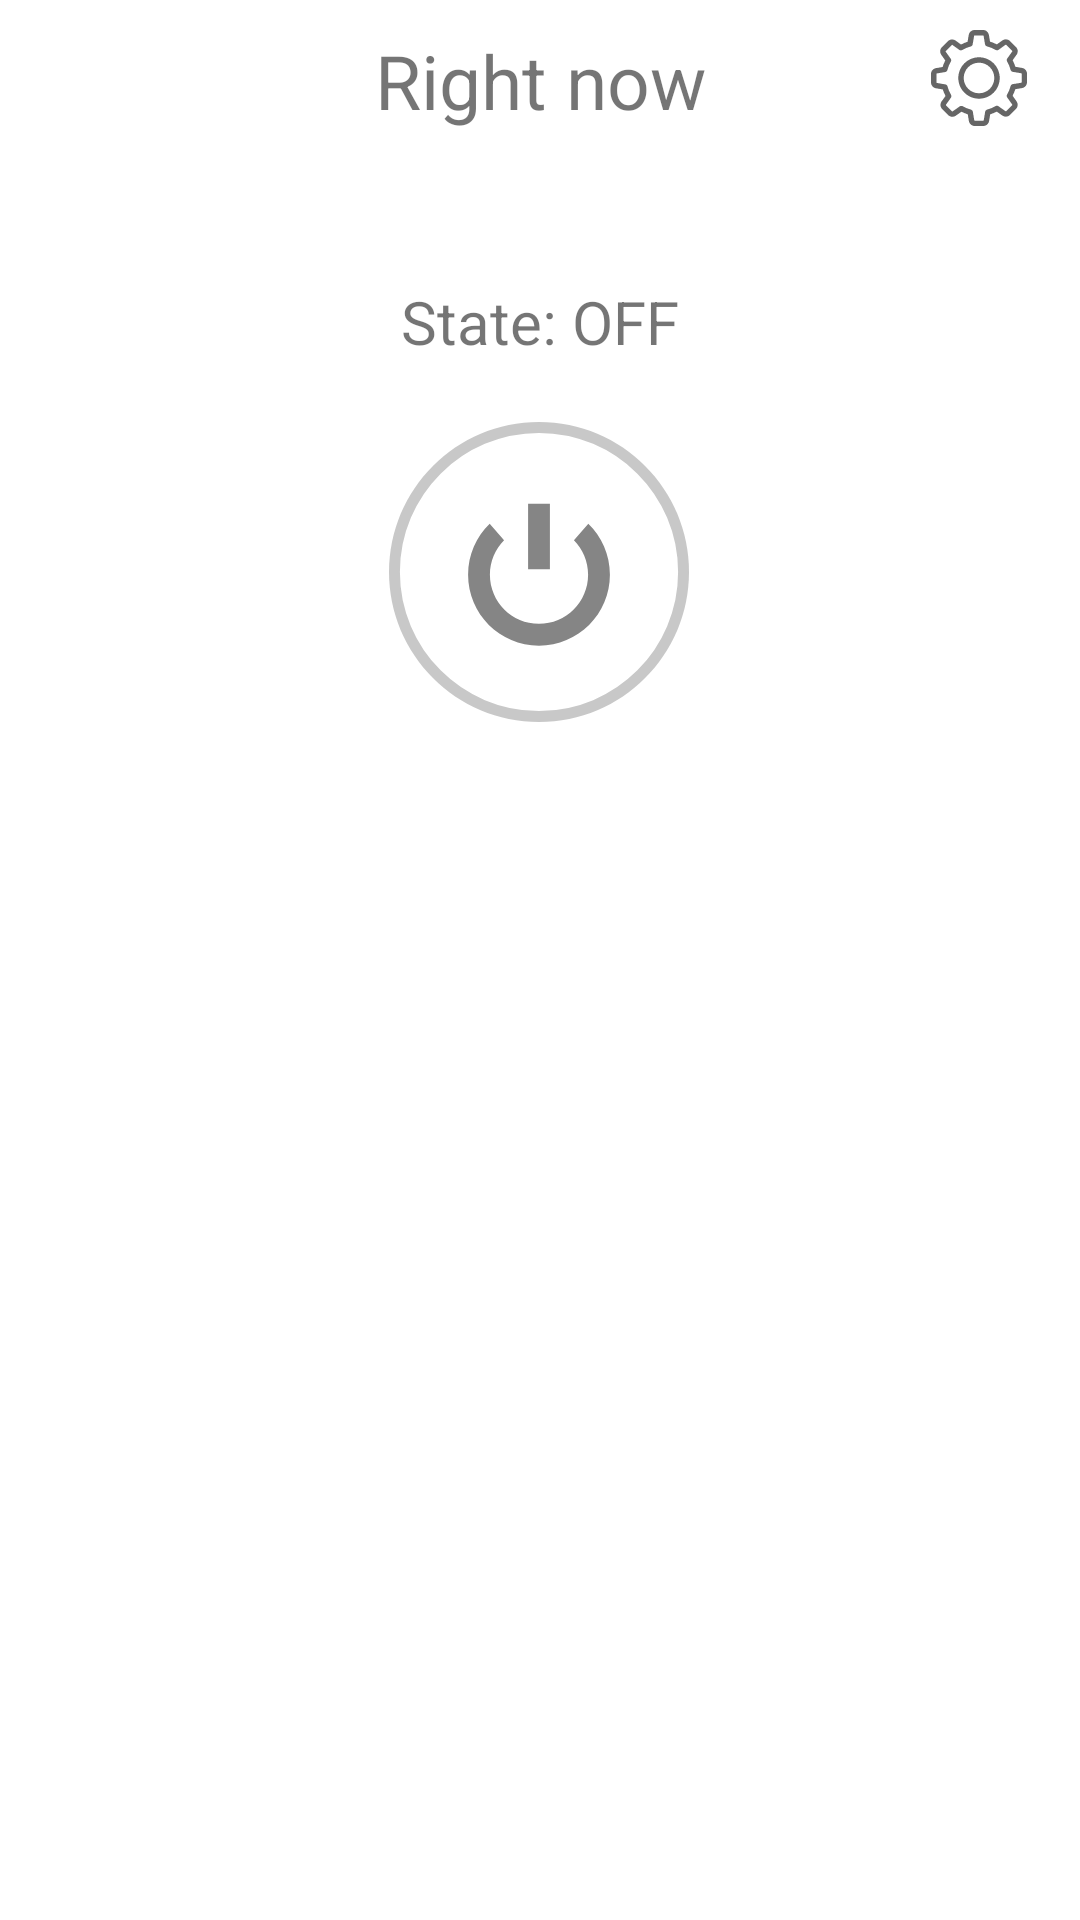

Named icons in this screenshot (1080 × 1920) and their bounding boxes, rect(x1, y1, x2, y2):
Device settings: rect(931, 30, 1027, 126)
